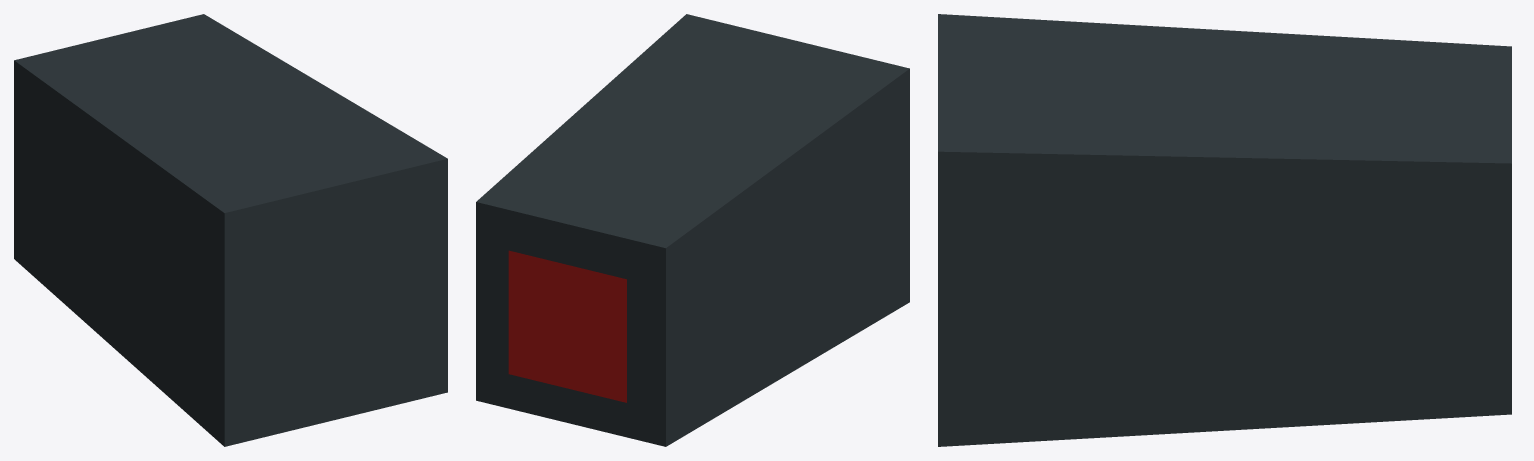
3 views of the same model, side by side, from view 1: azimuth 30°, elevation 25°; view 2: azimuth 150°, elevation 25°; view 3: azimuth 270°, elevation 25° (orthographic). The views are drawn at different scales.
Visible parts, largest first — view 1: mount; view 2: mount; view 3: mount.
Part boxes in pixels (left/top/right/bottom): mount: left=14, top=14, right=447, bottom=446; mount: left=476, top=14, right=909, bottom=446; mount: left=938, top=14, right=1511, bottom=446.
Bounding box in the file's own units: 1.24 × 1.24 × 2.21.
